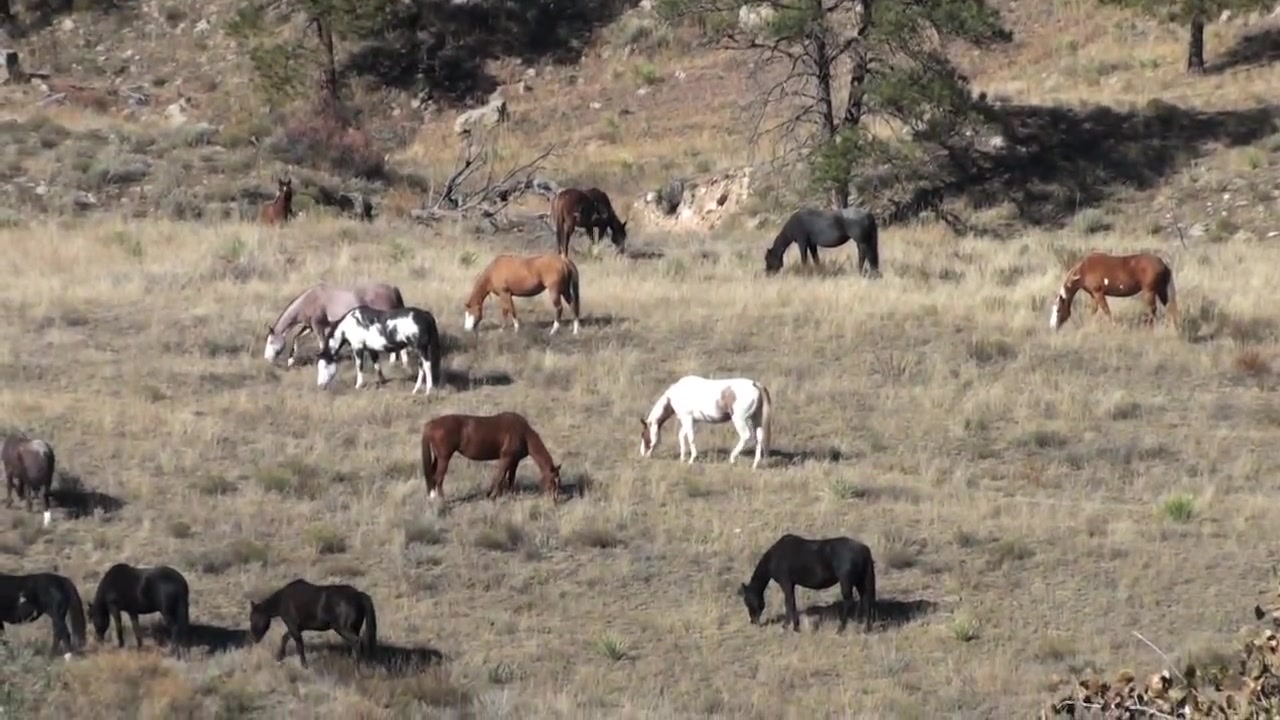horse: (421, 413, 566, 505)
